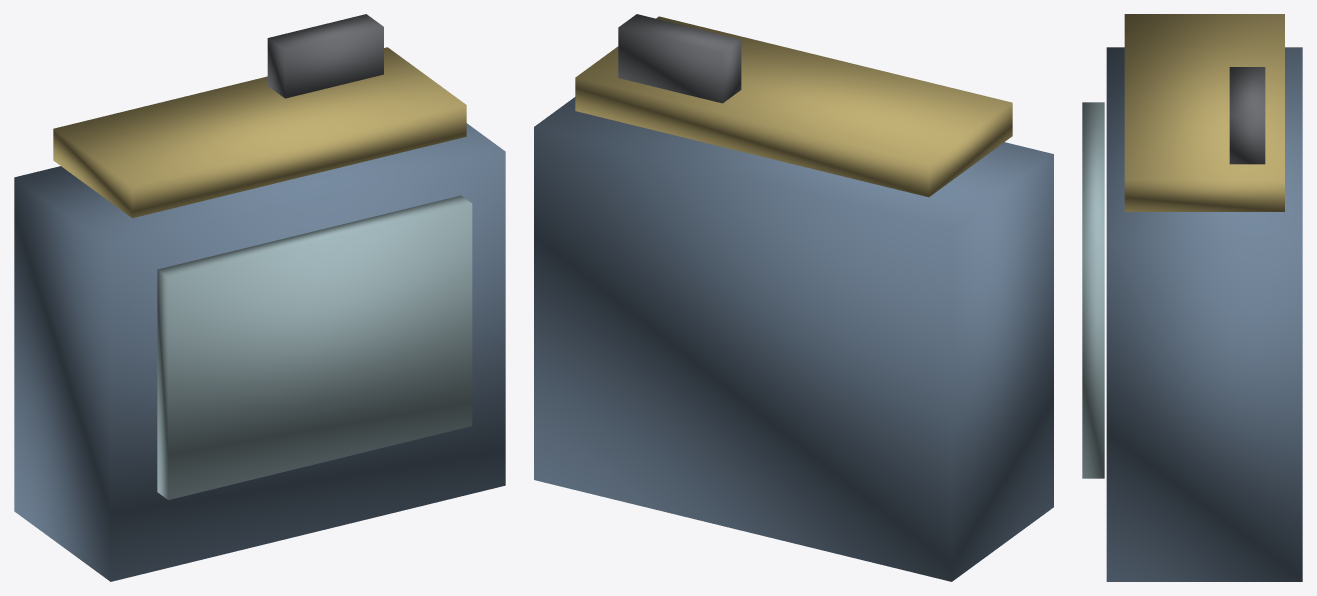
The model's file is lottery_counter_display__service.glb.
The picture shows the model from 3 angles, left to right: view 1: azimuth 30°, elevation 25°; view 2: azimuth 150°, elevation 25°; view 3: azimuth 270°, elevation 25°; orthographic projection. The views are drawn at different scales.
Visible parts, largest first — view 1: world; view 2: world; view 3: world.
Part boxes in pixels (<box>): world: <box>14,14,505,581</box>; world: <box>534,14,1053,581</box>; world: <box>1082,14,1302,581</box>.
Bounding box in the file's own units: 0.52 × 0.54 × 0.2475.
